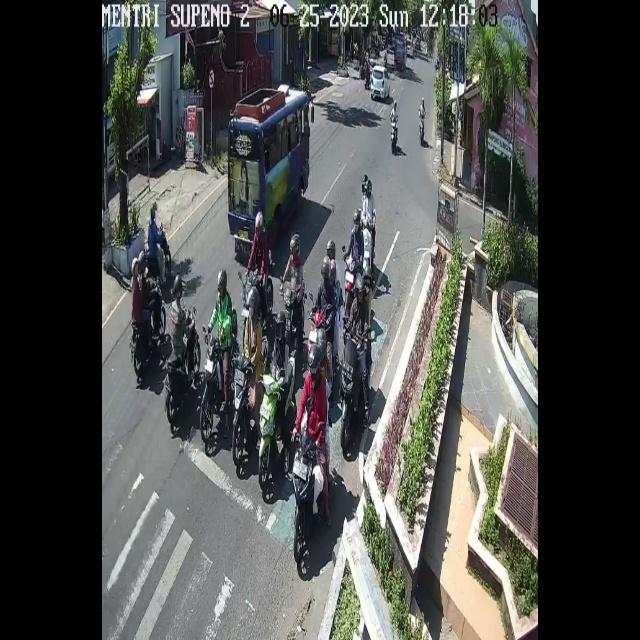bus: (291, 430, 330, 562), (259, 356, 296, 490), (231, 336, 267, 464), (164, 309, 202, 424), (339, 325, 372, 447), (200, 334, 236, 444), (130, 278, 166, 378), (241, 255, 277, 334), (146, 226, 173, 285), (279, 288, 303, 340), (344, 253, 357, 312), (361, 216, 372, 269), (308, 310, 326, 342), (389, 117, 398, 151), (419, 110, 426, 146)
car: (228, 83, 310, 257)
motorcycle: (370, 66, 391, 101)
